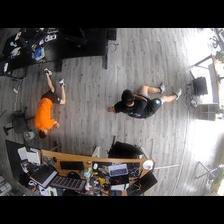fall: (105, 81, 181, 115), (32, 68, 69, 137)
